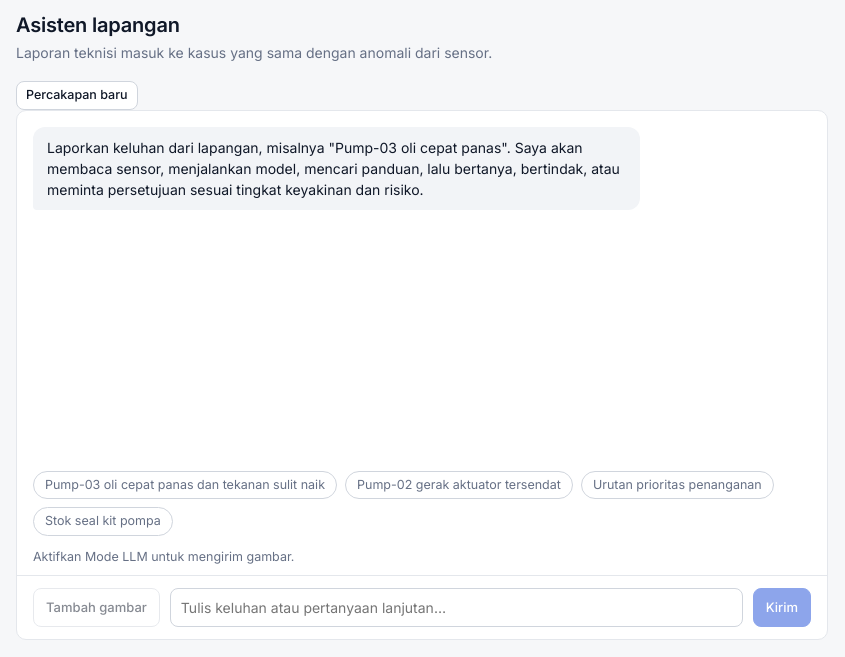
Test case: keeps a successful chat reply when its result summary could not be loaded
This screenshot has width=845, height=657.
Type "Pump-01 oli panas" into the field named "Pesan untuk asisten" at (456, 607), box x1=170 y1=588 x2=743 y2=627
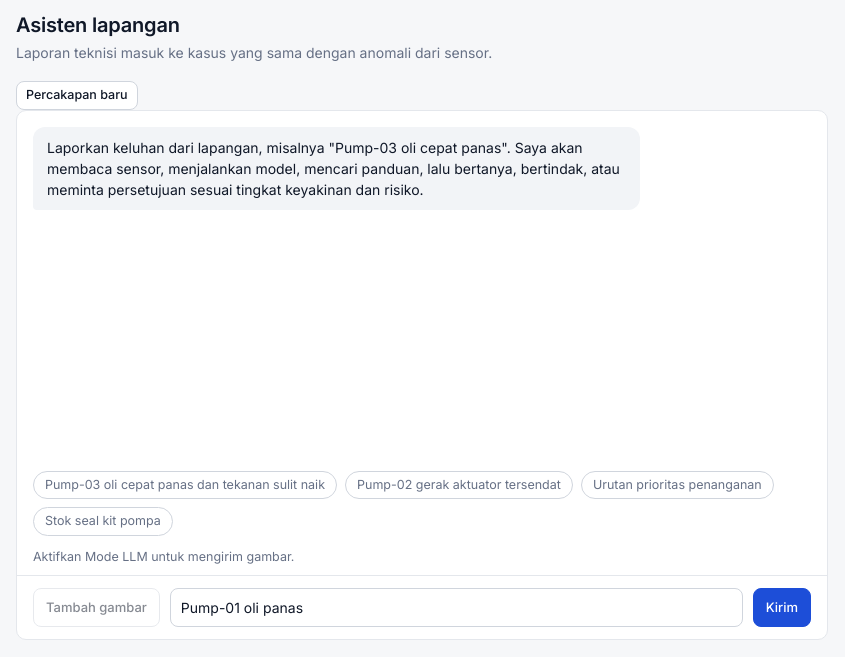
Click the button "Kirim" at (782, 607), box x1=753 y1=588 x2=811 y2=627
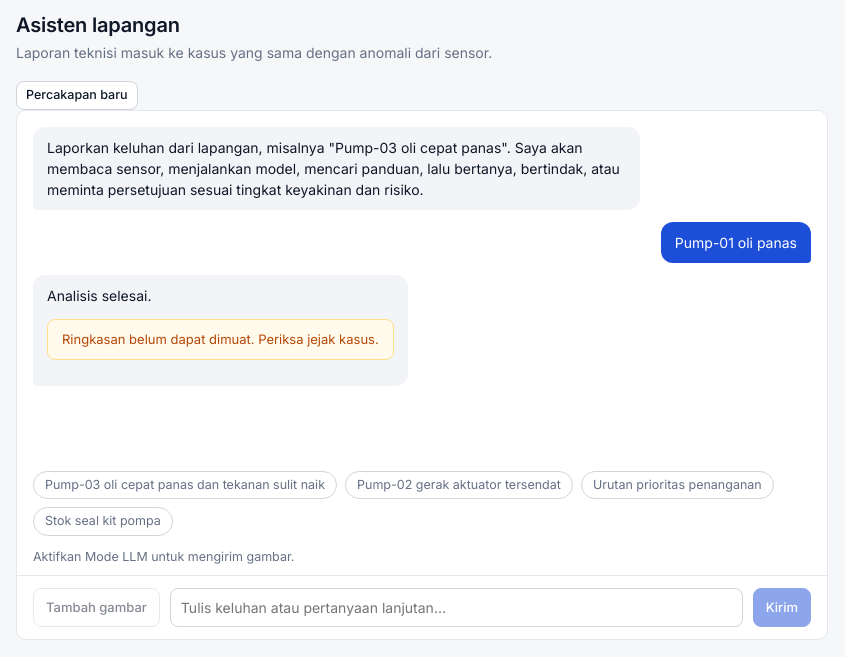
Now the text "Analisis selesai." is shown, box x1=47 y1=287 x2=152 y2=304
Now the text "Ringkasan belum dapat dimuat. Periksa jejak kasus." is shown, box x1=47 y1=319 x2=394 y2=360
